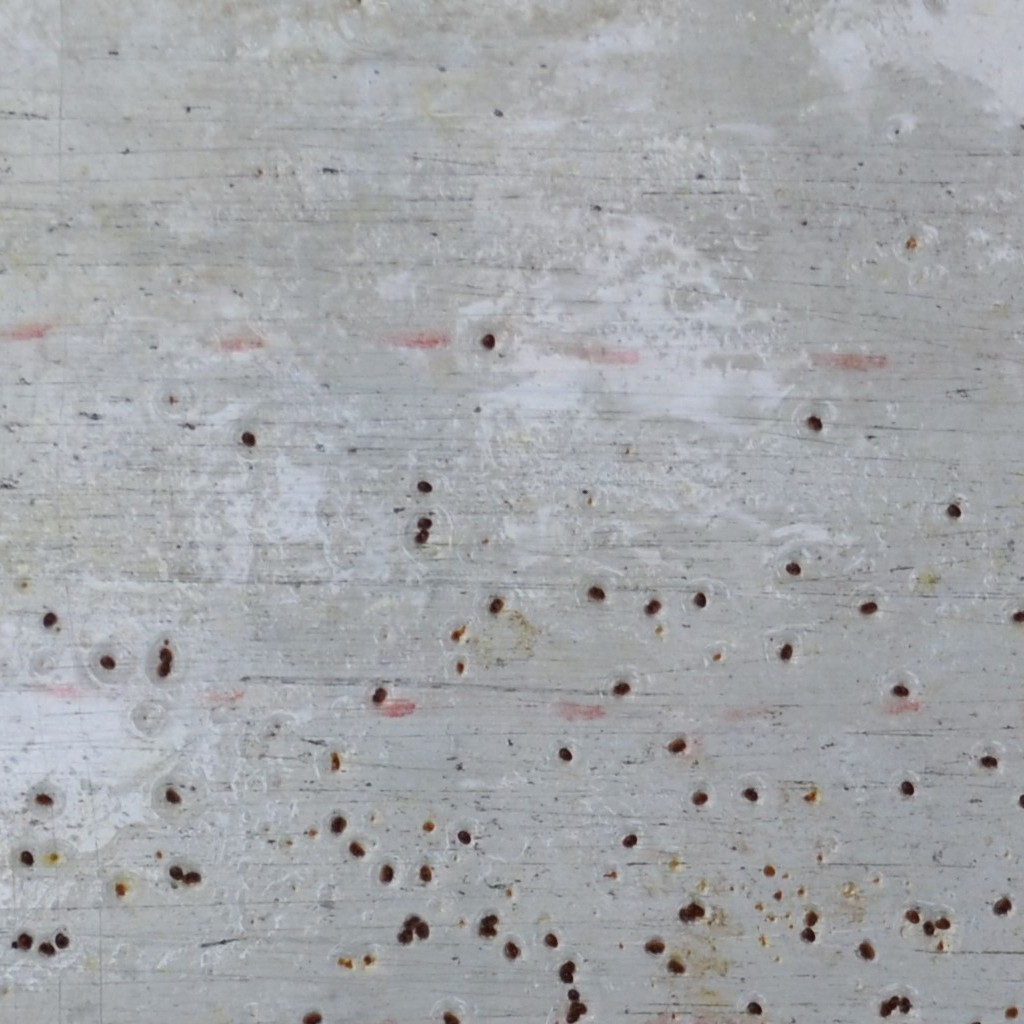varroa: (802, 411, 824, 440), (96, 652, 119, 675), (990, 896, 1013, 918), (665, 735, 688, 757), (977, 750, 1001, 771), (370, 684, 390, 708), (238, 428, 260, 449), (417, 861, 437, 884), (504, 936, 521, 962), (897, 777, 918, 798), (641, 596, 661, 618), (556, 745, 576, 767), (181, 867, 203, 887), (330, 810, 346, 837), (378, 862, 395, 887), (857, 598, 879, 617), (643, 940, 665, 959), (610, 679, 633, 697), (742, 1000, 766, 1017), (40, 610, 60, 630), (690, 790, 711, 809), (477, 911, 500, 928), (898, 991, 914, 1015), (688, 900, 707, 920), (666, 958, 686, 977), (486, 597, 505, 617), (903, 906, 921, 927), (621, 829, 639, 850), (164, 787, 182, 808), (396, 927, 414, 948), (691, 588, 707, 611), (299, 1009, 325, 1023), (739, 786, 759, 804), (479, 330, 497, 350), (53, 929, 70, 950), (36, 940, 57, 957), (414, 920, 430, 942), (784, 560, 803, 578), (1002, 1004, 1021, 1022), (857, 941, 875, 960), (587, 583, 606, 601), (412, 528, 430, 547), (166, 862, 184, 881), (346, 840, 365, 858), (943, 502, 963, 519), (891, 683, 911, 700), (777, 641, 794, 661), (678, 906, 695, 926), (456, 827, 473, 847), (34, 790, 54, 807), (556, 968, 576, 985), (438, 1010, 464, 1023), (414, 478, 435, 494), (477, 925, 498, 941), (801, 922, 816, 944), (934, 913, 953, 930), (156, 646, 175, 663), (17, 931, 33, 951), (19, 847, 34, 868), (569, 1000, 590, 1015), (402, 913, 420, 930), (803, 906, 819, 925), (155, 662, 174, 678), (414, 515, 434, 530), (564, 986, 584, 1001), (543, 930, 558, 949), (420, 820, 436, 837), (1009, 607, 1023, 626), (922, 918, 935, 937), (878, 1000, 892, 1017), (563, 1011, 582, 1023), (559, 959, 575, 973), (886, 992, 898, 1009), (1015, 789, 1023, 812)
